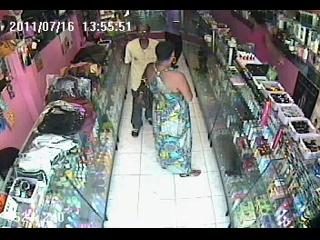Normal: (124, 23, 159, 137)
